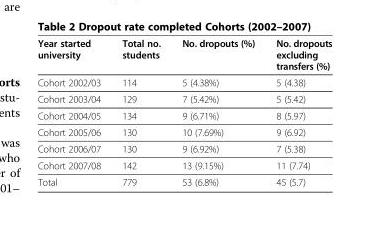table: (36, 37, 331, 187)
table column: (170, 37, 264, 187), (36, 37, 110, 187), (264, 37, 331, 187), (110, 37, 170, 187)
table column header: (36, 37, 331, 73)
table row: (36, 37, 331, 73), (36, 73, 331, 90), (36, 90, 331, 107), (36, 123, 331, 140), (36, 156, 331, 173), (36, 107, 331, 123), (36, 140, 331, 156), (36, 173, 331, 187)
